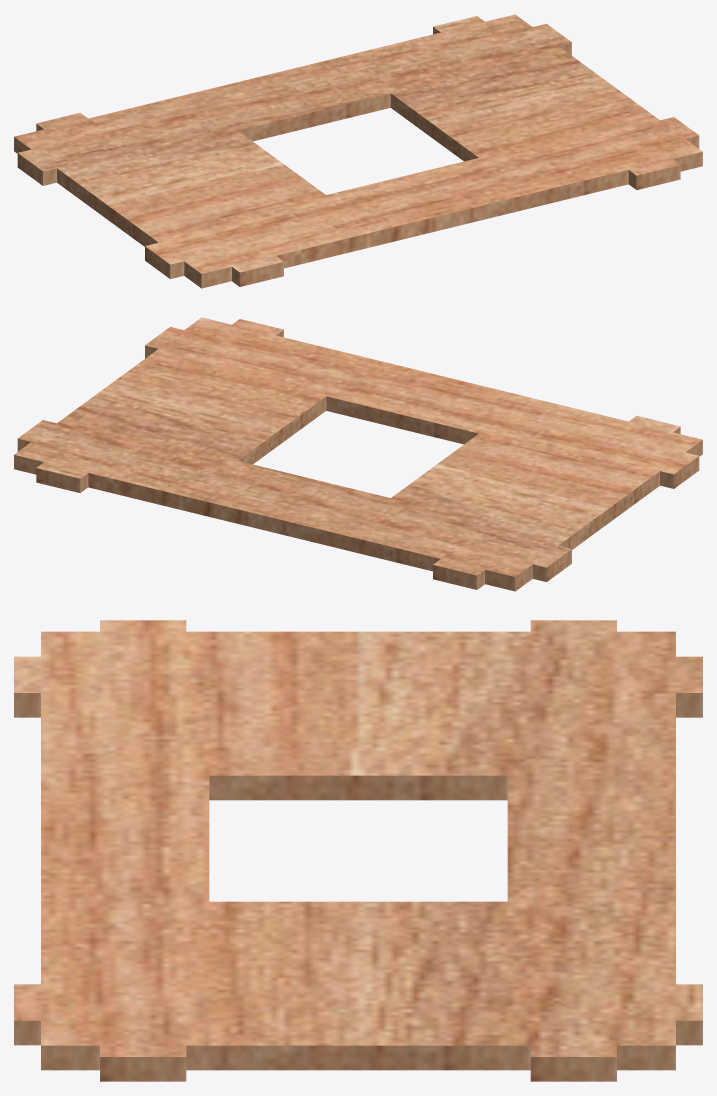
Rendered from Top Panel.obj.
3 renders of one model, top to bottom at view 1: azimuth 30°, elevation 25°; view 2: azimuth 150°, elevation 25°; view 3: azimuth 270°, elevation 25°, orthographic. The views are drawn at different scales.
Parts seen in each view (by area): view 1: Solid1; view 2: Solid1; view 3: Solid1.
Part boxes in pixels (left/top/right/bottom): Solid1: left=14, top=14, right=702, bottom=288; Solid1: left=14, top=317, right=702, bottom=591; Solid1: left=14, top=620, right=702, bottom=1081.
Bounding box in the file's own units: 152 × 4 × 102.
Materials: 1 (1 with a texture image).
